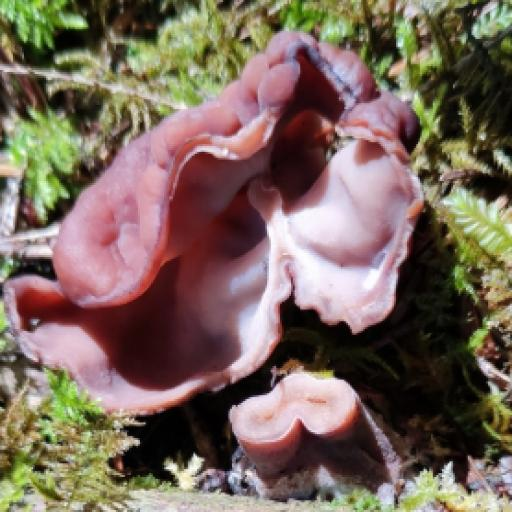False Morel: (0, 14, 482, 454)
